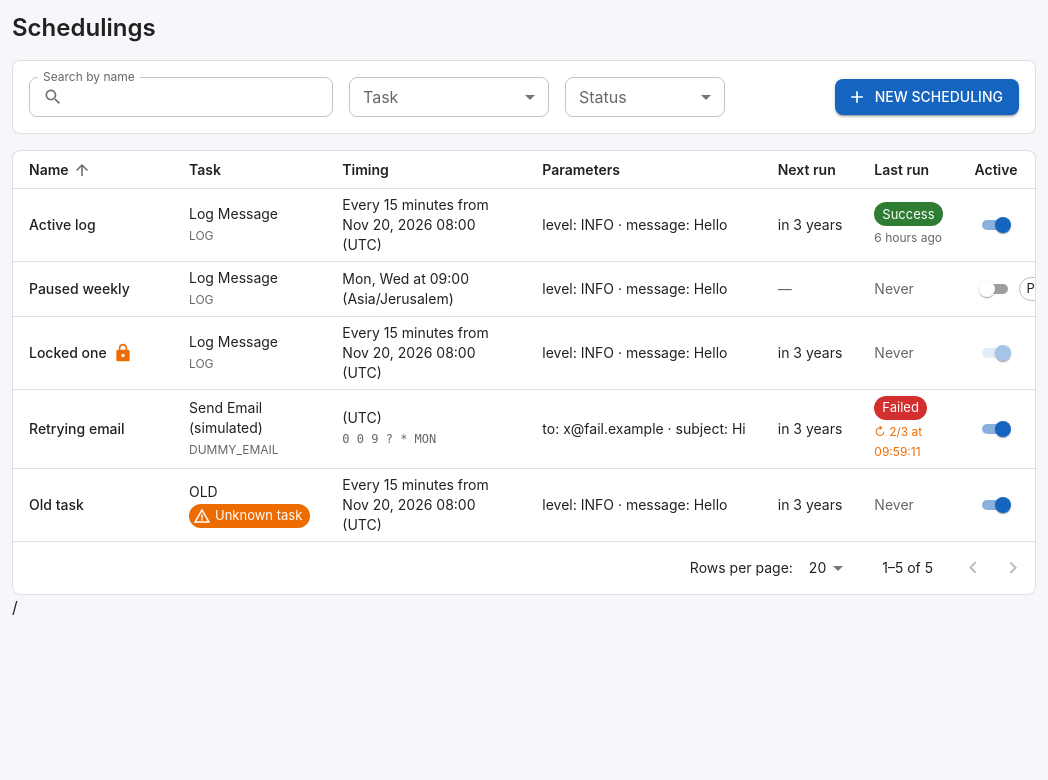
Test: SchedulingsPage › pauses an active scheduling
expect the text "Active log" is shown: met, box x1=29 y1=215 x2=96 y2=235
Click the switch named "Active: Active log". click: click(1002, 225)
box: x1=994 y1=217 x2=1010 y2=233
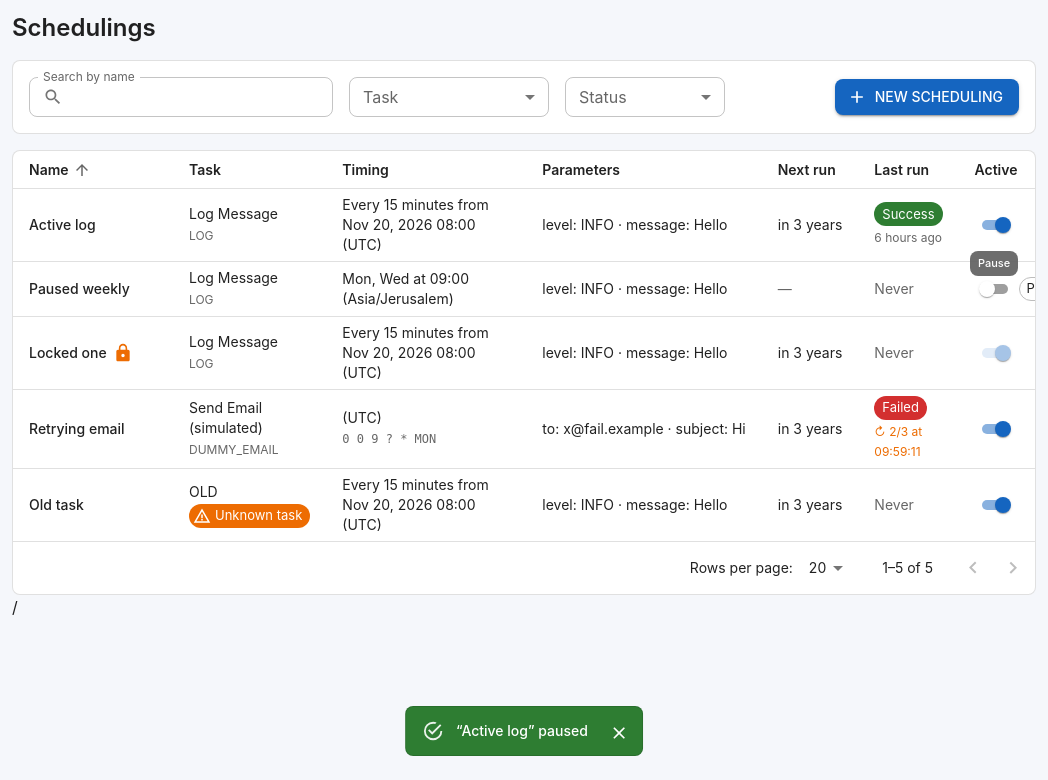
expect the text "“Active log” paused" is shown: met, box x1=456 y1=722 x2=588 y2=739
